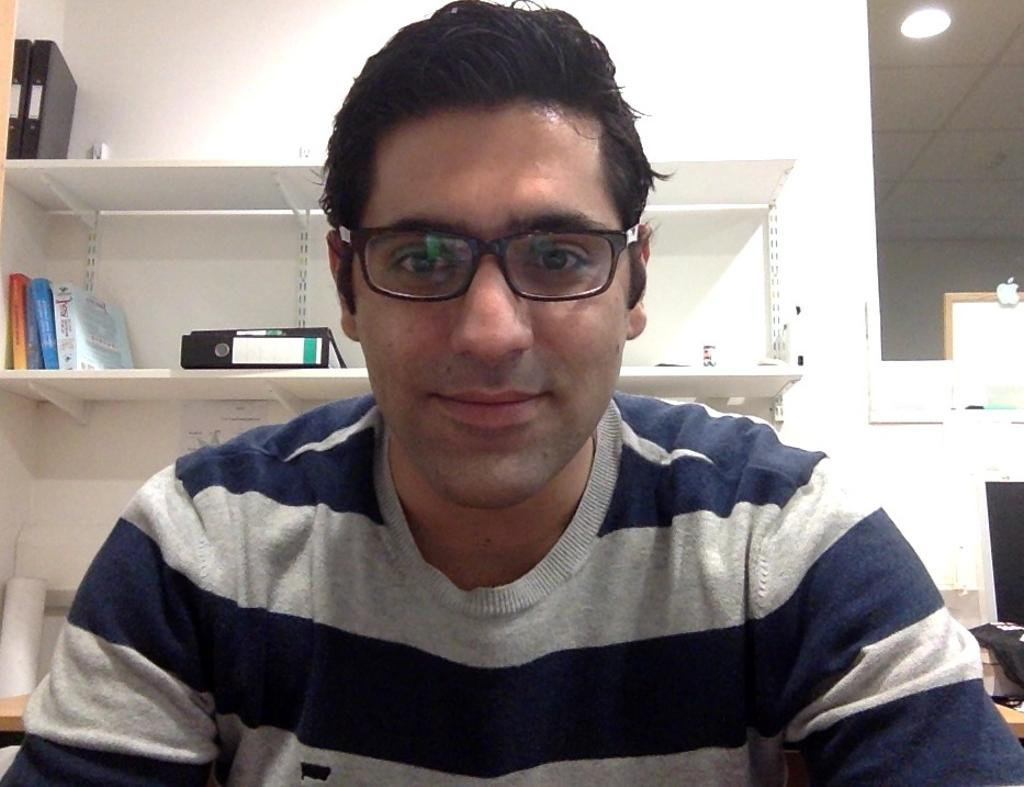face: (378, 118, 624, 490)
